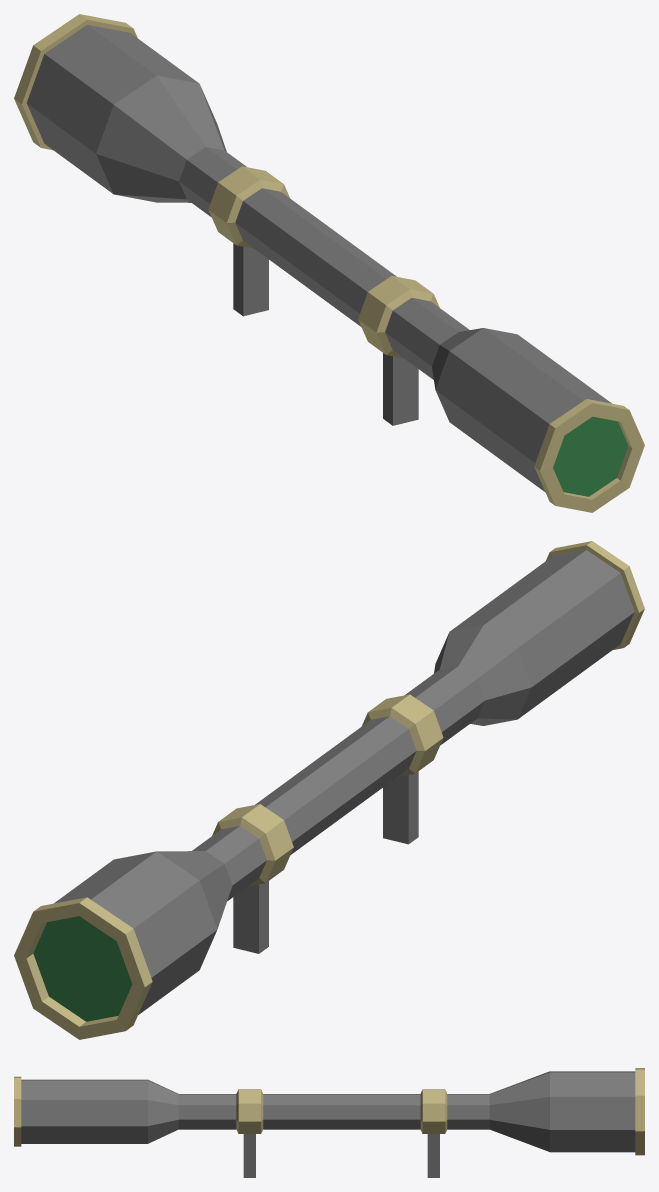
Rendered from Scope4.fbx.
3 renders of one model, top to bottom at view 1: azimuth 30°, elevation 25°; view 2: azimuth 150°, elevation 25°; view 3: azimuth 270°, elevation 25°, orthographic. The views are drawn at different scales.
Parts seen in each view (by area): view 1: SniperRifle-A.001; view 2: SniperRifle-A.001; view 3: SniperRifle-A.001.
Boxes of the visible parts, x1,y1,x2,y2 form: SniperRifle-A.001: (14,14,644,512); SniperRifle-A.001: (14,541,644,1039); SniperRifle-A.001: (14,1068,644,1177).
Size of the model in its own units: 74.38 by 92.25 by 505.
